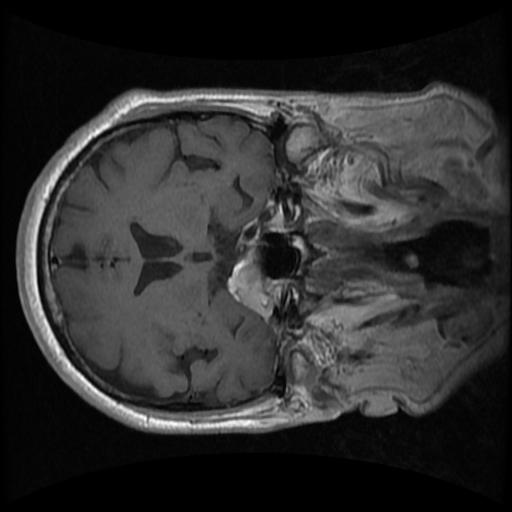meningioma: (228, 248, 273, 317)
